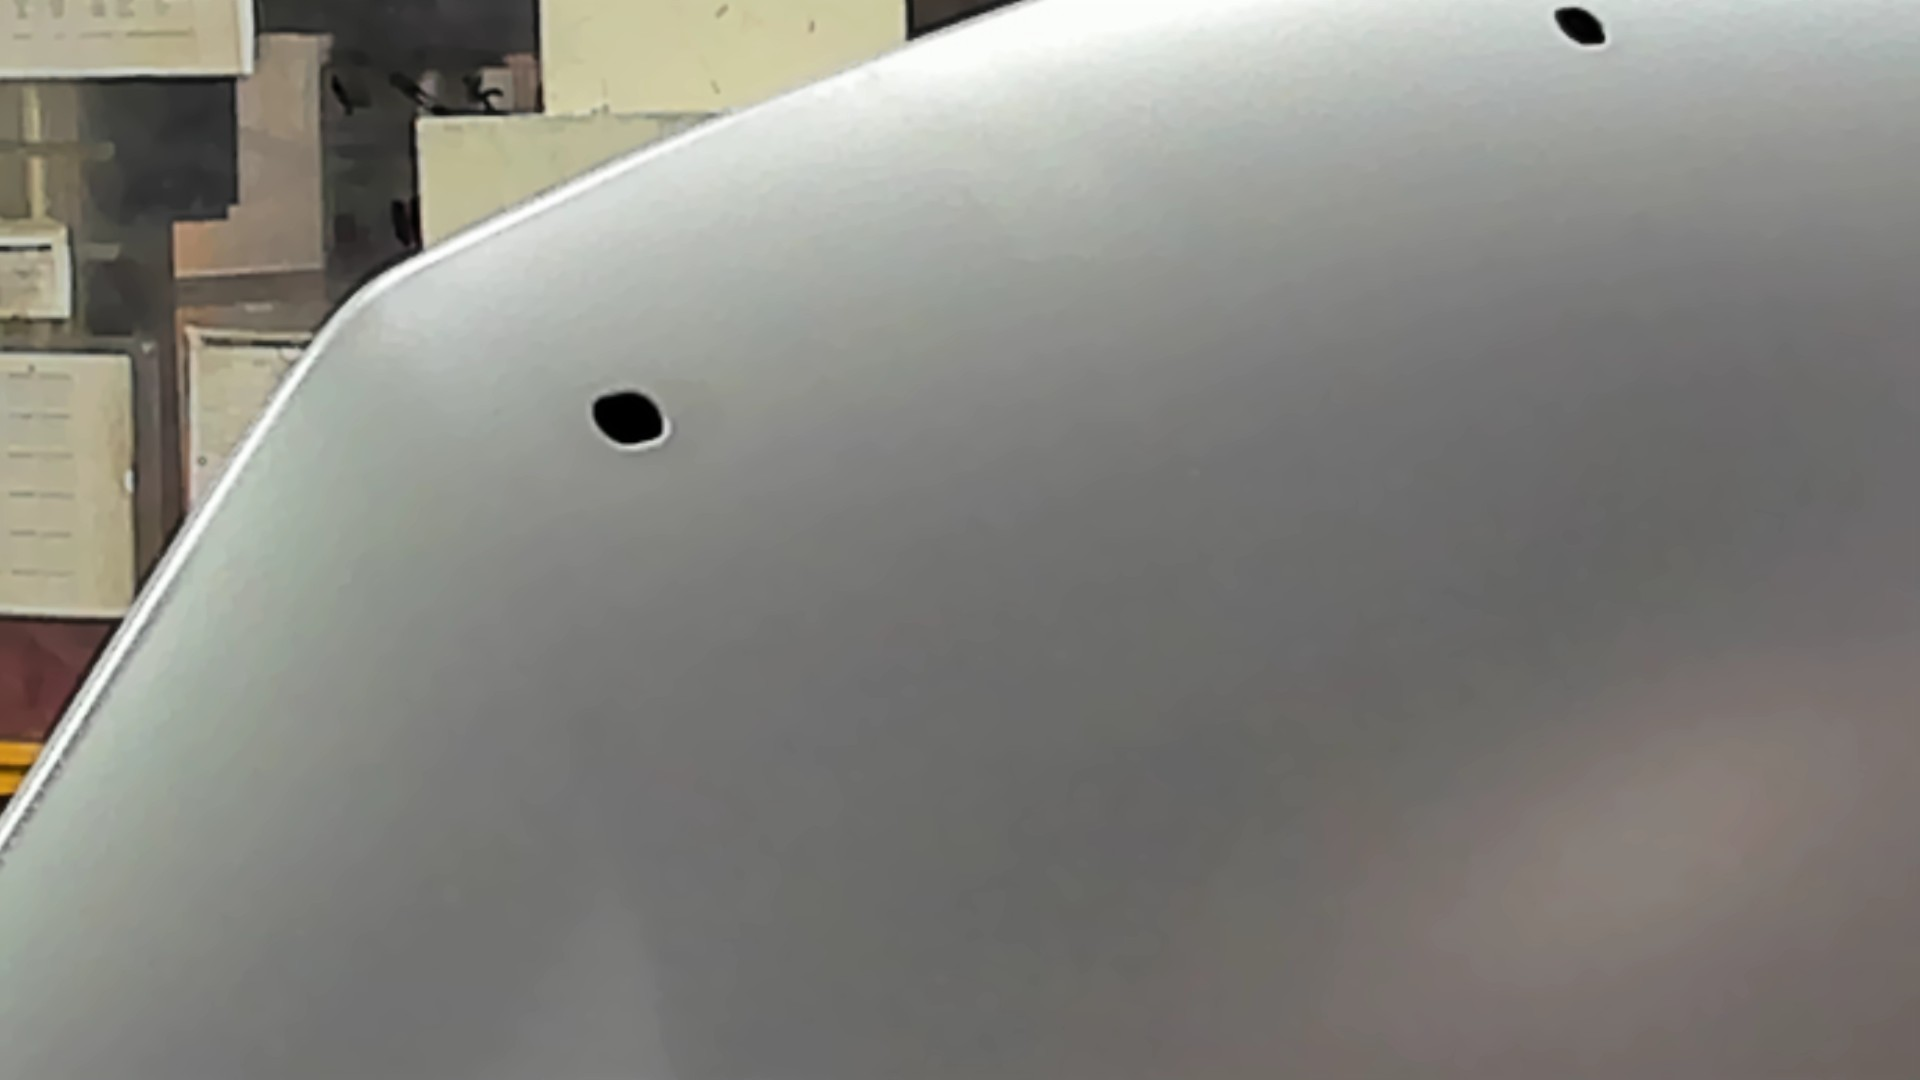amorfo: (587, 388, 674, 454), (1549, 1, 1613, 49)
